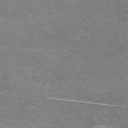finishing roll printing: (46, 96, 119, 107)
